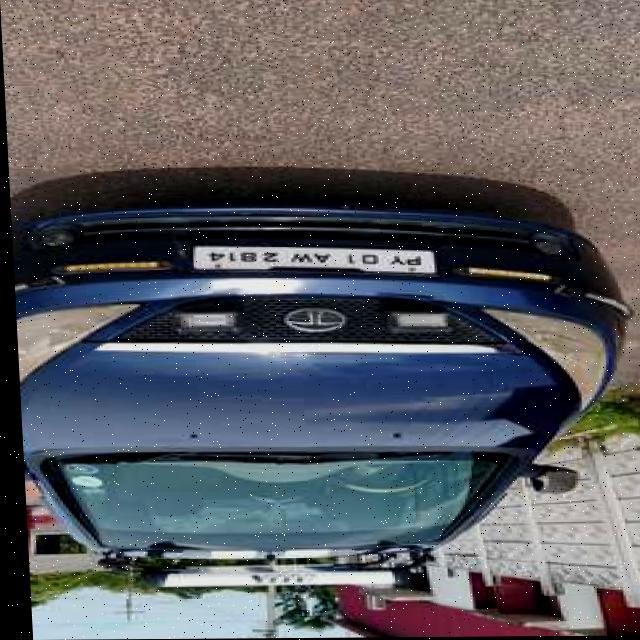plate: (190, 245, 435, 277)
